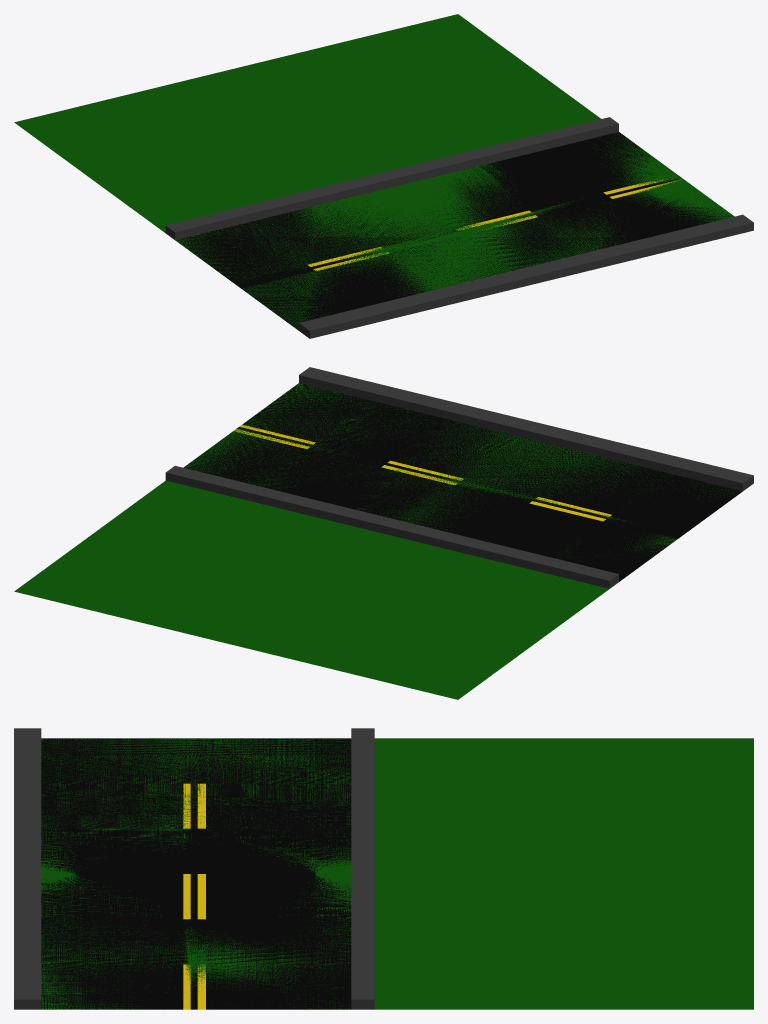
File: grass 1.fbx
3 views of the same model, one above another, from view 1: azimuth 30°, elevation 25°; view 2: azimuth 150°, elevation 25°; view 3: azimuth 270°, elevation 25° (orthographic). The views are drawn at different scales.
Visible parts, largest first — view 1: Plane.003, Plane.001; view 2: Plane.003, Plane.001; view 3: Plane.003, Plane.001.
Part boxes in pixels (bbox=[...]): Plane.003: bbox=[14, 14, 734, 329]; Plane.001: bbox=[165, 117, 753, 338]; Plane.003: bbox=[14, 383, 741, 699]; Plane.001: bbox=[165, 367, 753, 588]; Plane.003: bbox=[41, 738, 753, 1009]; Plane.001: bbox=[14, 728, 374, 1009].
Size of the model in its own units: 5121 by 88.11 by 5909.
